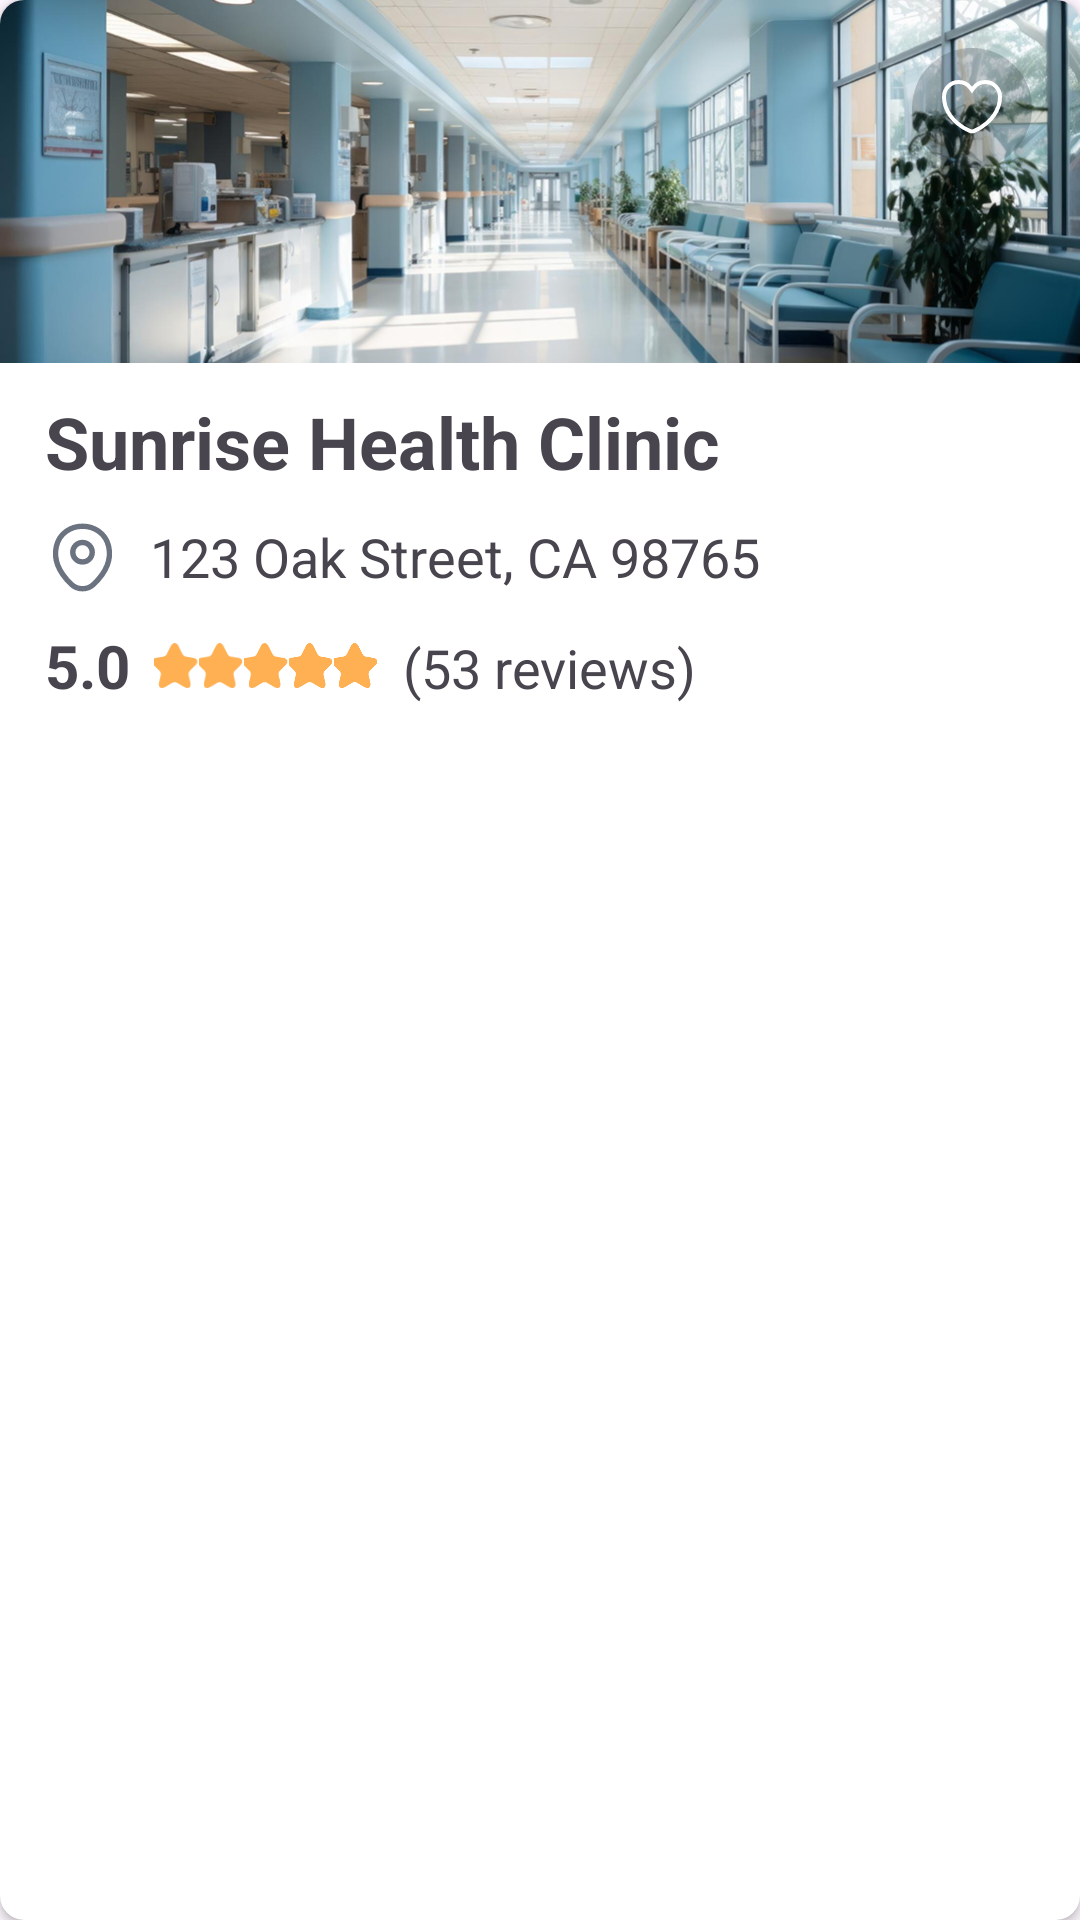

Icons on this 1080 x 1920 Android screen, each with its box as (x1, y1, x2, y2):
location street: (53, 523, 112, 592)
star: (154, 643, 198, 688), (199, 643, 243, 688), (244, 643, 288, 688), (289, 643, 332, 688), (334, 643, 377, 688)
